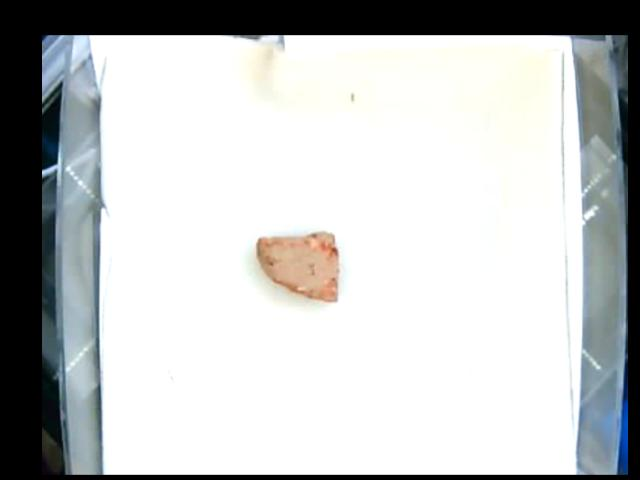Brisk: (255, 233, 337, 302)
